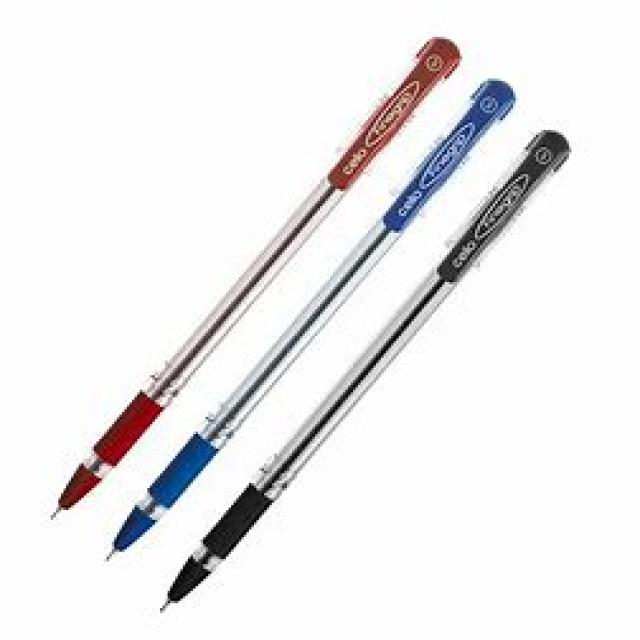pen: (49, 34, 572, 608)
